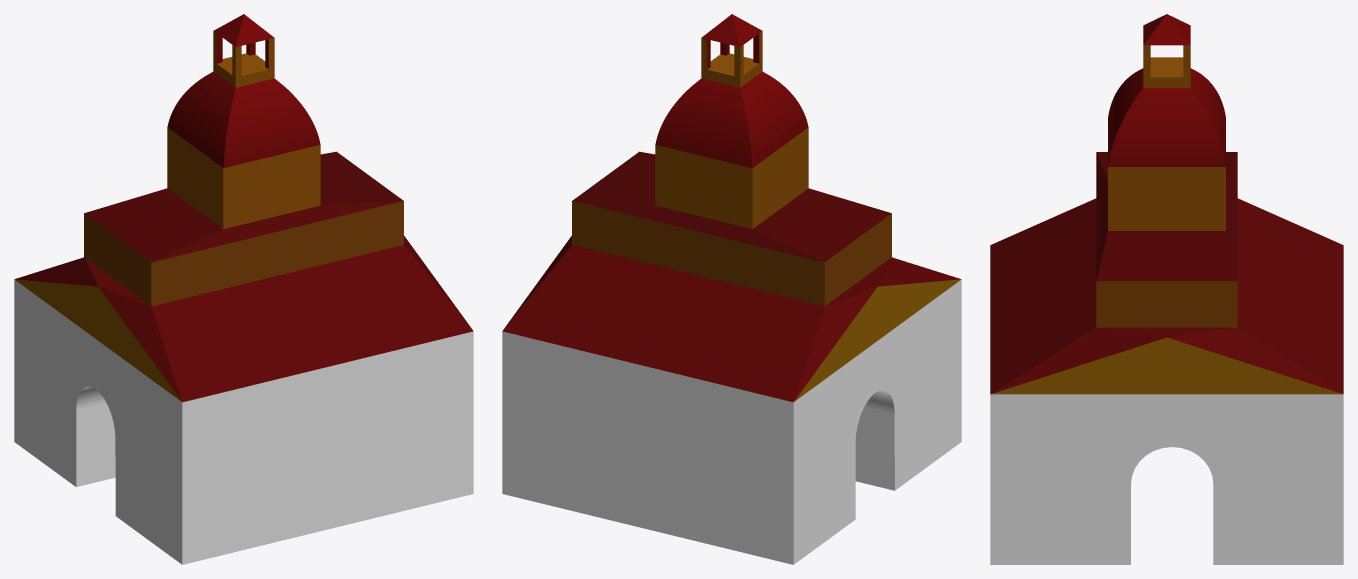
Rendered from KuzFortress.glb.
3 views of the same model, side by side, from view 1: azimuth 30°, elevation 25°; view 2: azimuth 150°, elevation 25°; view 3: azimuth 270°, elevation 25° (orthographic). The views are drawn at different scales.
Visible parts, largest first — view 1: Твердое тело1 (×4); view 2: Твердое тело1 (×4); view 3: Твердое тело1 (×4).
Part boxes in pixels (box(x1,y1,x2,y2)): Твердое тело1 (×4): box(14, 14, 473, 564); Твердое тело1 (×4): box(502, 14, 961, 564); Твердое тело1 (×4): box(990, 14, 1343, 564).
Size of the model in its own units: 0.015 by 0.0223 by 0.015.
